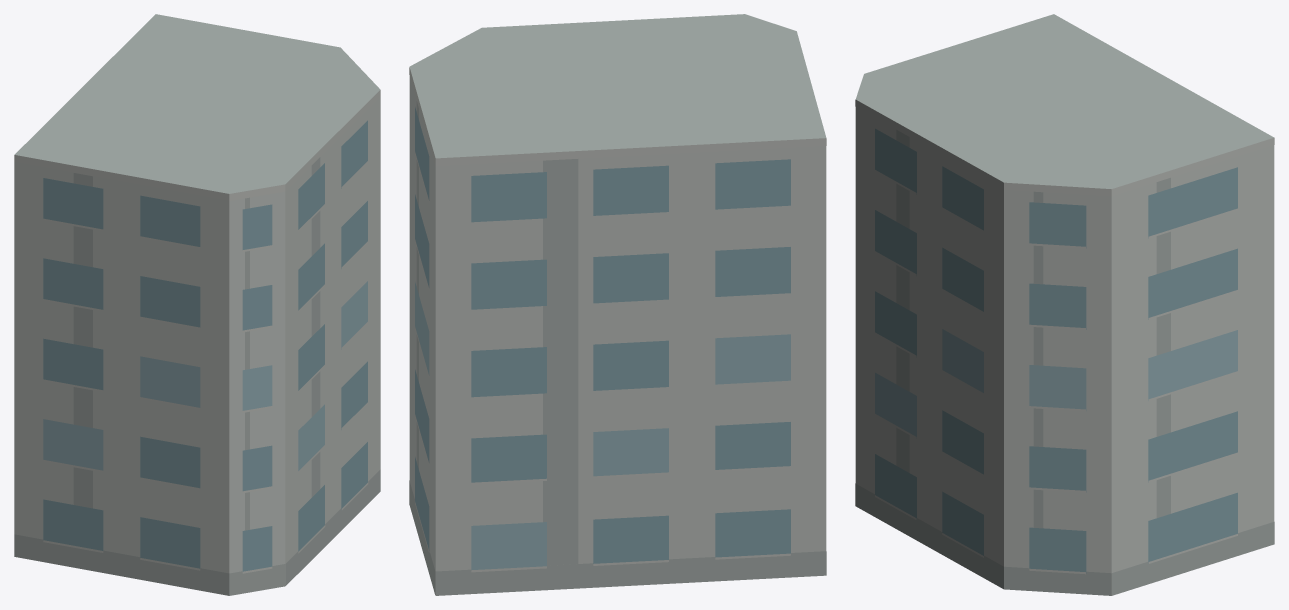
Rendered from residential-df552bcd-d1bd-4b5b-97d2-75f2be7db68a.glb.
3 views of the same model, side by side, from view 1: azimuth 30°, elevation 25°; view 2: azimuth 150°, elevation 25°; view 3: azimuth 270°, elevation 25° (orthographic). The views are drawn at different scales.
Parts seen in each view (by area): view 1: residential-df552bcd-d1bd-4b5b-97d2-75f2be7db68a.tmp; view 2: residential-df552bcd-d1bd-4b5b-97d2-75f2be7db68a.tmp; view 3: residential-df552bcd-d1bd-4b5b-97d2-75f2be7db68a.tmp.
Part boxes in pixels (x1,y1,x2,y2): residential-df552bcd-d1bd-4b5b-97d2-75f2be7db68a.tmp: (14, 14, 380, 595); residential-df552bcd-d1bd-4b5b-97d2-75f2be7db68a.tmp: (409, 14, 826, 595); residential-df552bcd-d1bd-4b5b-97d2-75f2be7db68a.tmp: (855, 14, 1274, 595).
Bounding box in the file's own units: 12.57 × 13.6 × 12.7.
